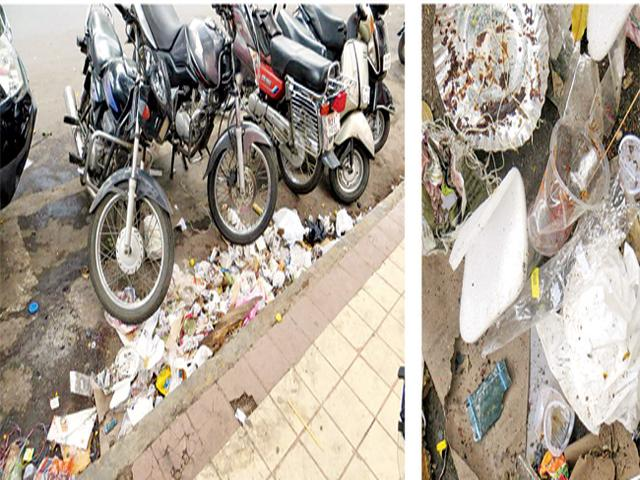garbage: (427, 10, 638, 464)
